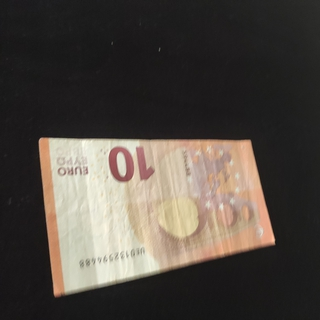10EUROBack: (37, 136, 275, 298)
